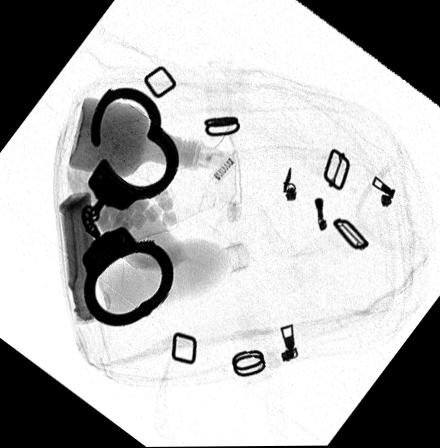HandCuffs: (80, 87, 179, 326)
